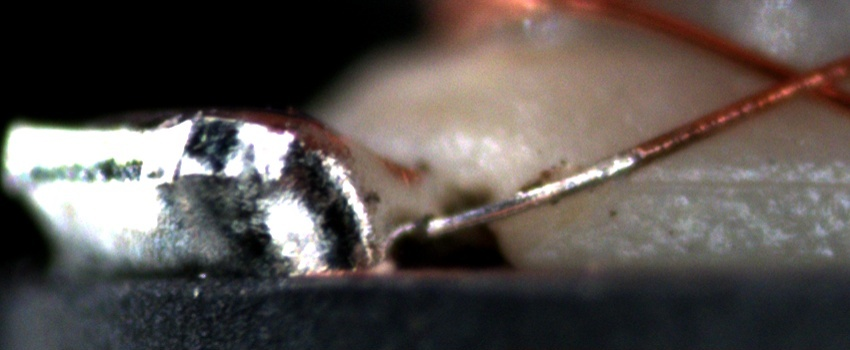CL: (751, 49, 836, 107)
DL: (624, 147, 850, 211)
TS: (421, 151, 636, 239)
